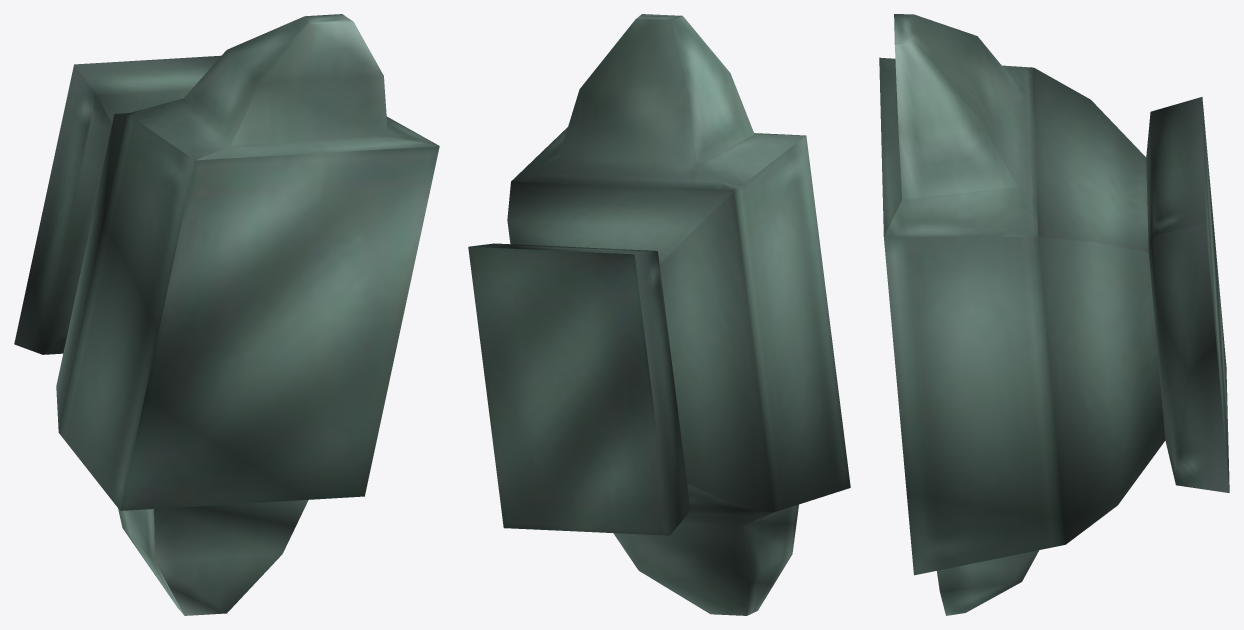
Rendered from tt_m_chr_avt_acc_hat_anvil.glb.
The picture shows the model from 3 angles, left to right: view 1: azimuth 30°, elevation 25°; view 2: azimuth 150°, elevation 25°; view 3: azimuth 270°, elevation 25°; orthographic projection. The views are drawn at different scales.
Visible parts, largest first — view 1: anvilHat; view 2: anvilHat; view 3: anvilHat.
Boxes of the visible parts, box(x1,y1,x2,y2) form: anvilHat: box(14, 14, 439, 615); anvilHat: box(468, 14, 850, 615); anvilHat: box(879, 14, 1229, 615).
Size of the model in its own units: 2.82 by 5.19 by 2.6.
Materials: 1 (1 with a texture image).
